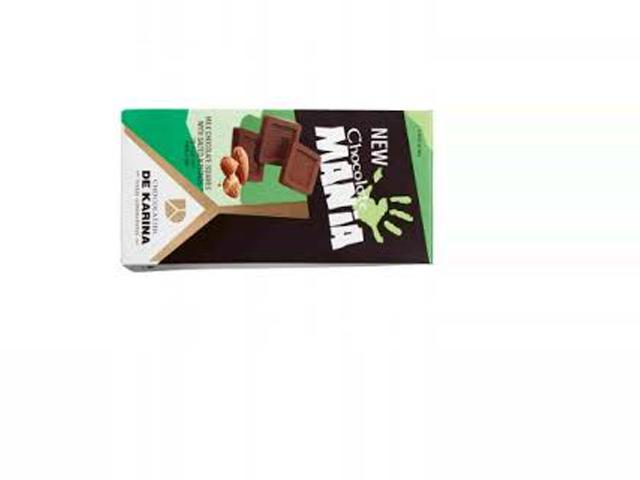chocolate: (113, 100, 437, 274)
